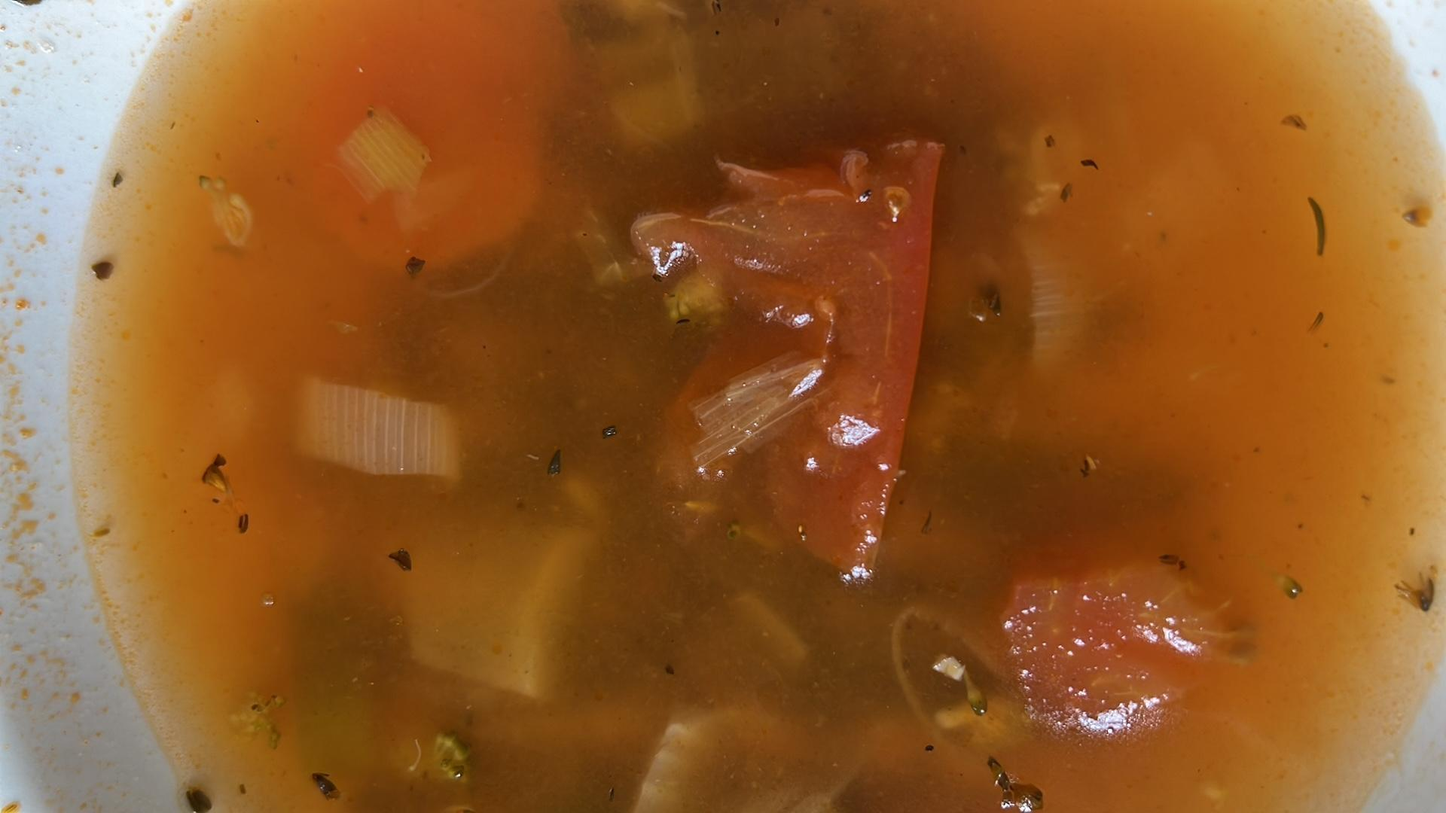green onion: (294, 382, 467, 483)
